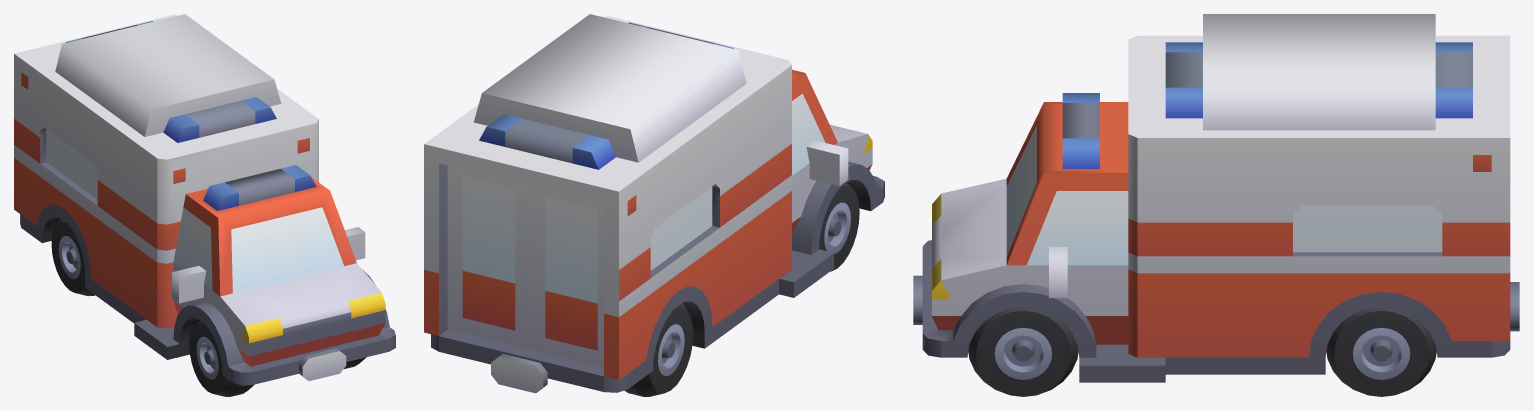
File: k.ambulance.glb
3 renders of one model, left to right at view 1: azimuth 30°, elevation 25°; view 2: azimuth 150°, elevation 25°; view 3: azimuth 270°, elevation 25°, orthographic. The views are drawn at different scales.
Visible parts, largest first — view 1: body, wheel-front-right, wheel-back-right; view 2: body, door-left, door-right, wheel-back-right, wheel-front-right; view 3: body, wheel-back-left, wheel-front-left.
Boxes of the visible parts, x1,y1,x2,y2 form: body: (14, 14, 395, 385); wheel-front-right: (189, 320, 254, 396); wheel-back-right: (51, 219, 95, 296); body: (424, 14, 884, 393); door-left: (447, 165, 530, 349); door-right: (530, 186, 603, 367); wheel-back-right: (624, 304, 693, 396); wheel-front-right: (819, 183, 859, 271); body: (913, 14, 1519, 382); wheel-back-left: (1326, 307, 1436, 396); wheel-front-left: (968, 307, 1078, 396).
Size of the model in its own units: 2.71 by 3.25 by 5.86.
1 material, 1 textured.
